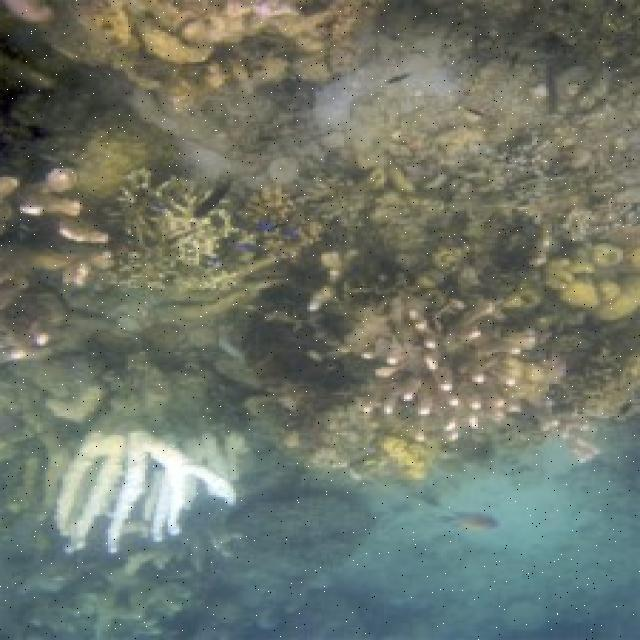Bleached: (41, 447, 227, 555), (165, 208, 242, 267)
Healthy: (251, 234, 638, 429), (1, 165, 255, 368), (258, 142, 640, 242)
